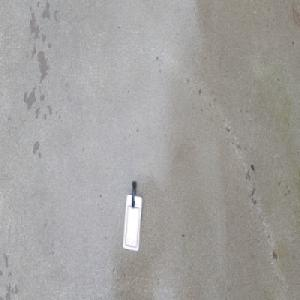LuggageTag: (121, 179, 142, 251)
